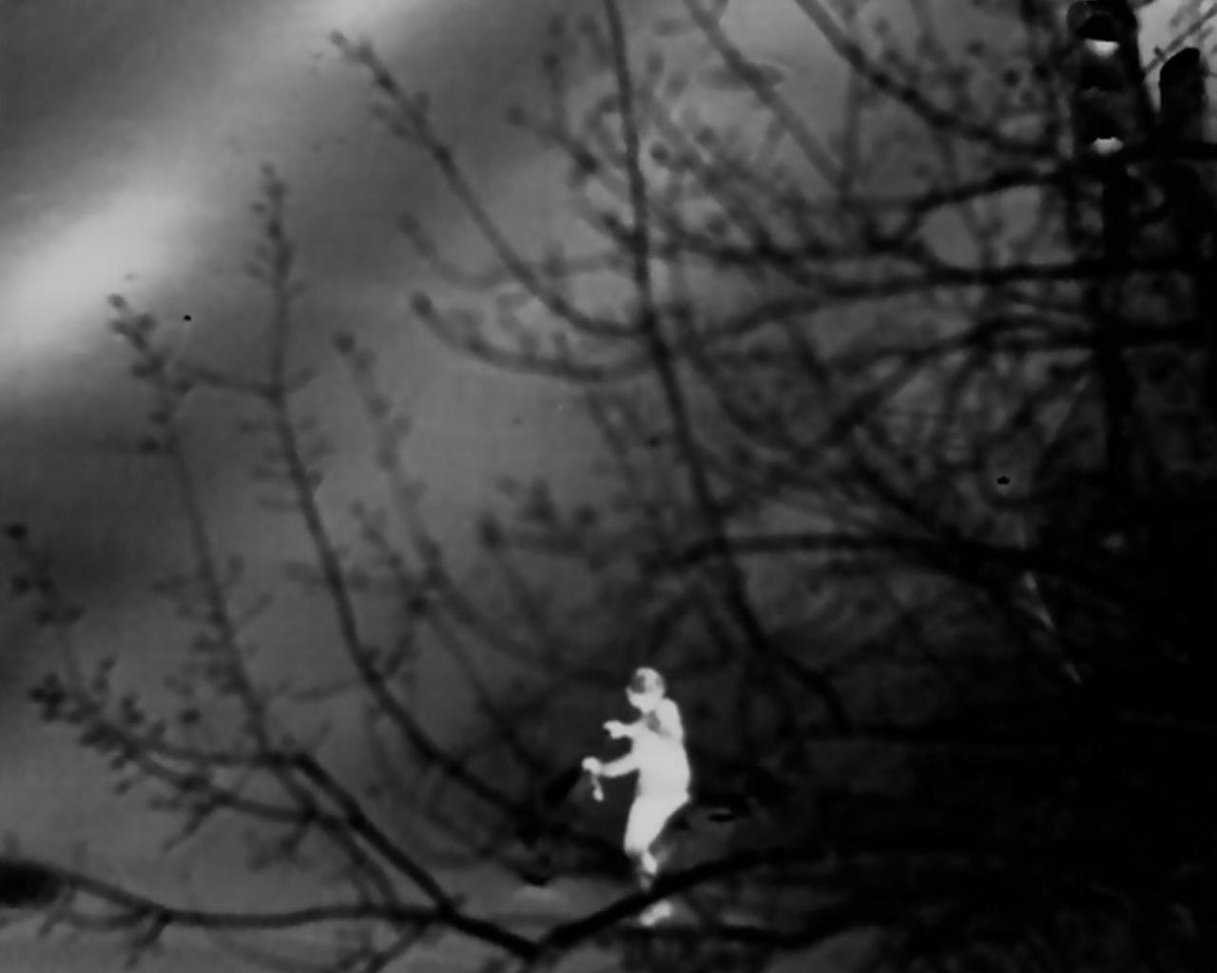person: (600, 663, 693, 894)
